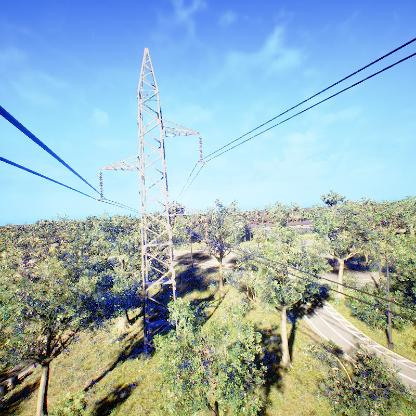tower: (96, 47, 208, 363)
